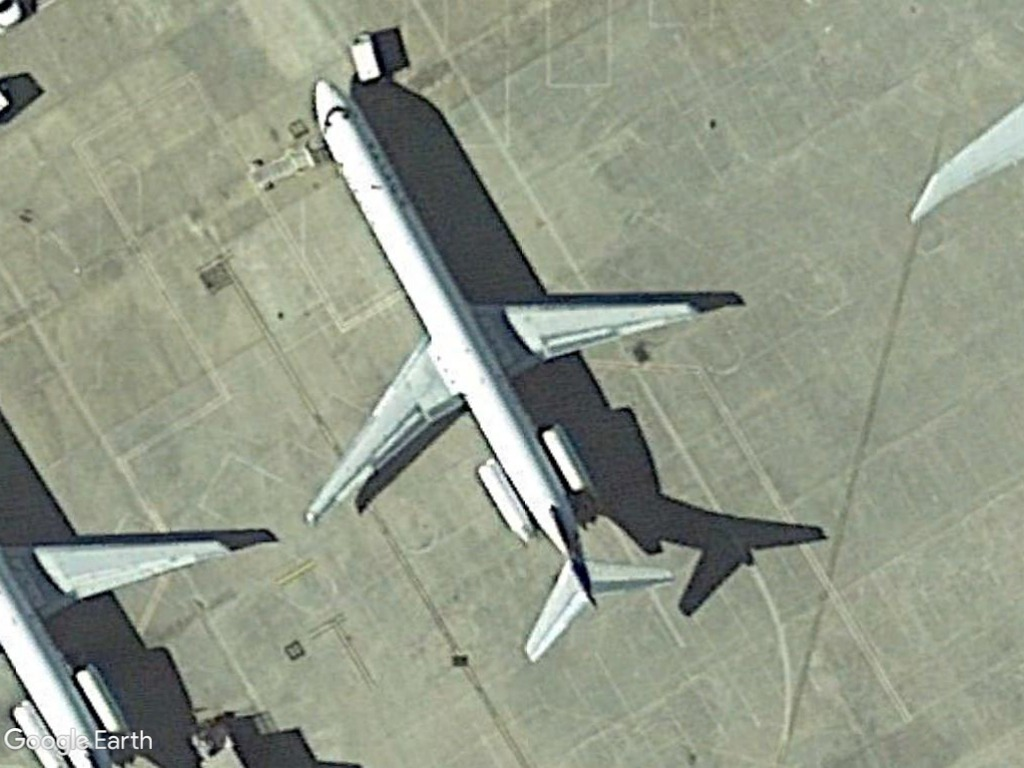chartered: (276, 71, 712, 667)
